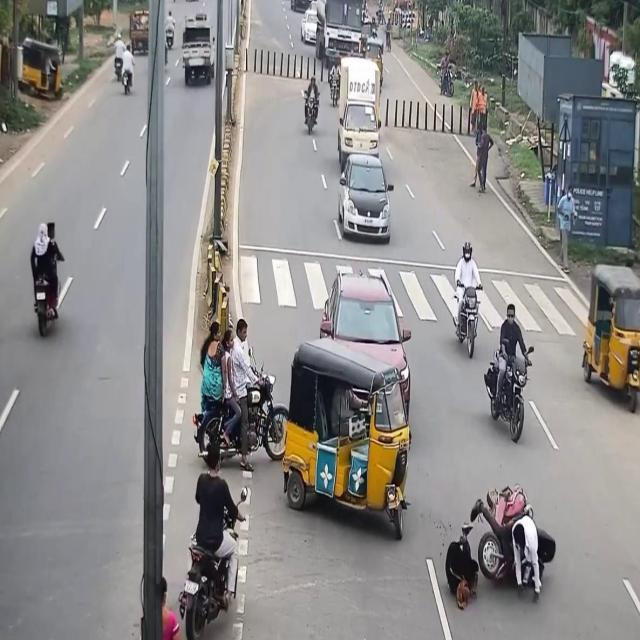accident: (438, 464, 558, 620)
non_accident: (296, 0, 396, 247), (270, 0, 310, 15), (181, 0, 211, 12)
